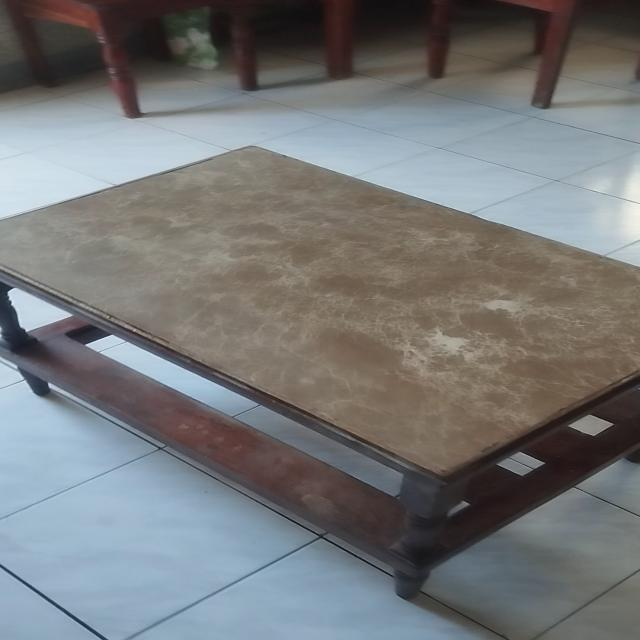table: (4, 142, 640, 605)
